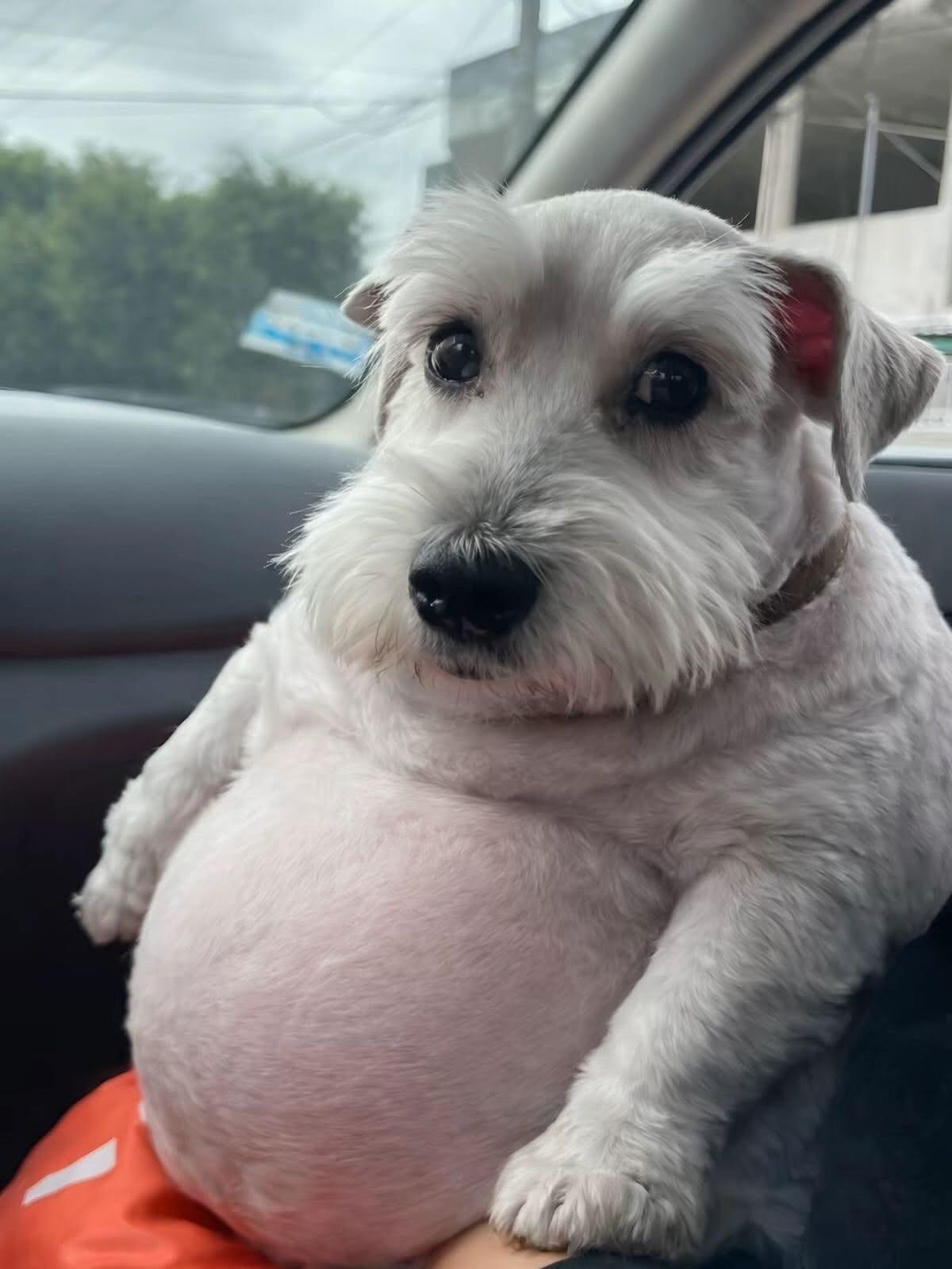adult_dog: (67, 173, 952, 1269)
